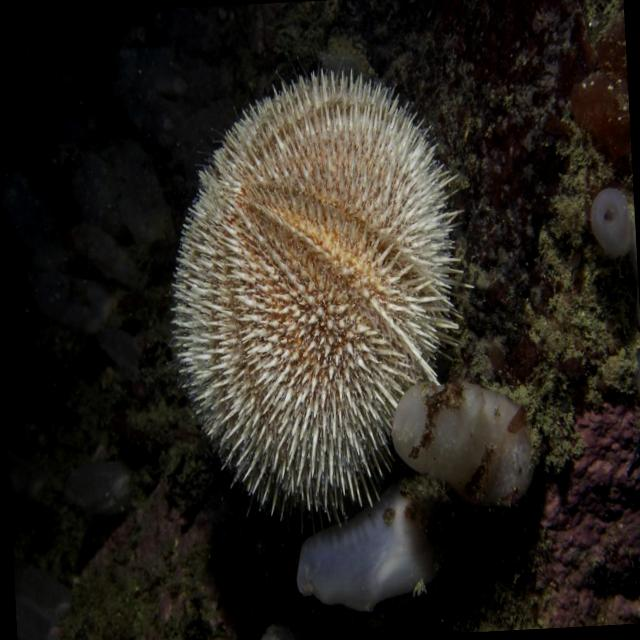Deniz Kestanesi: (149, 42, 482, 542)
